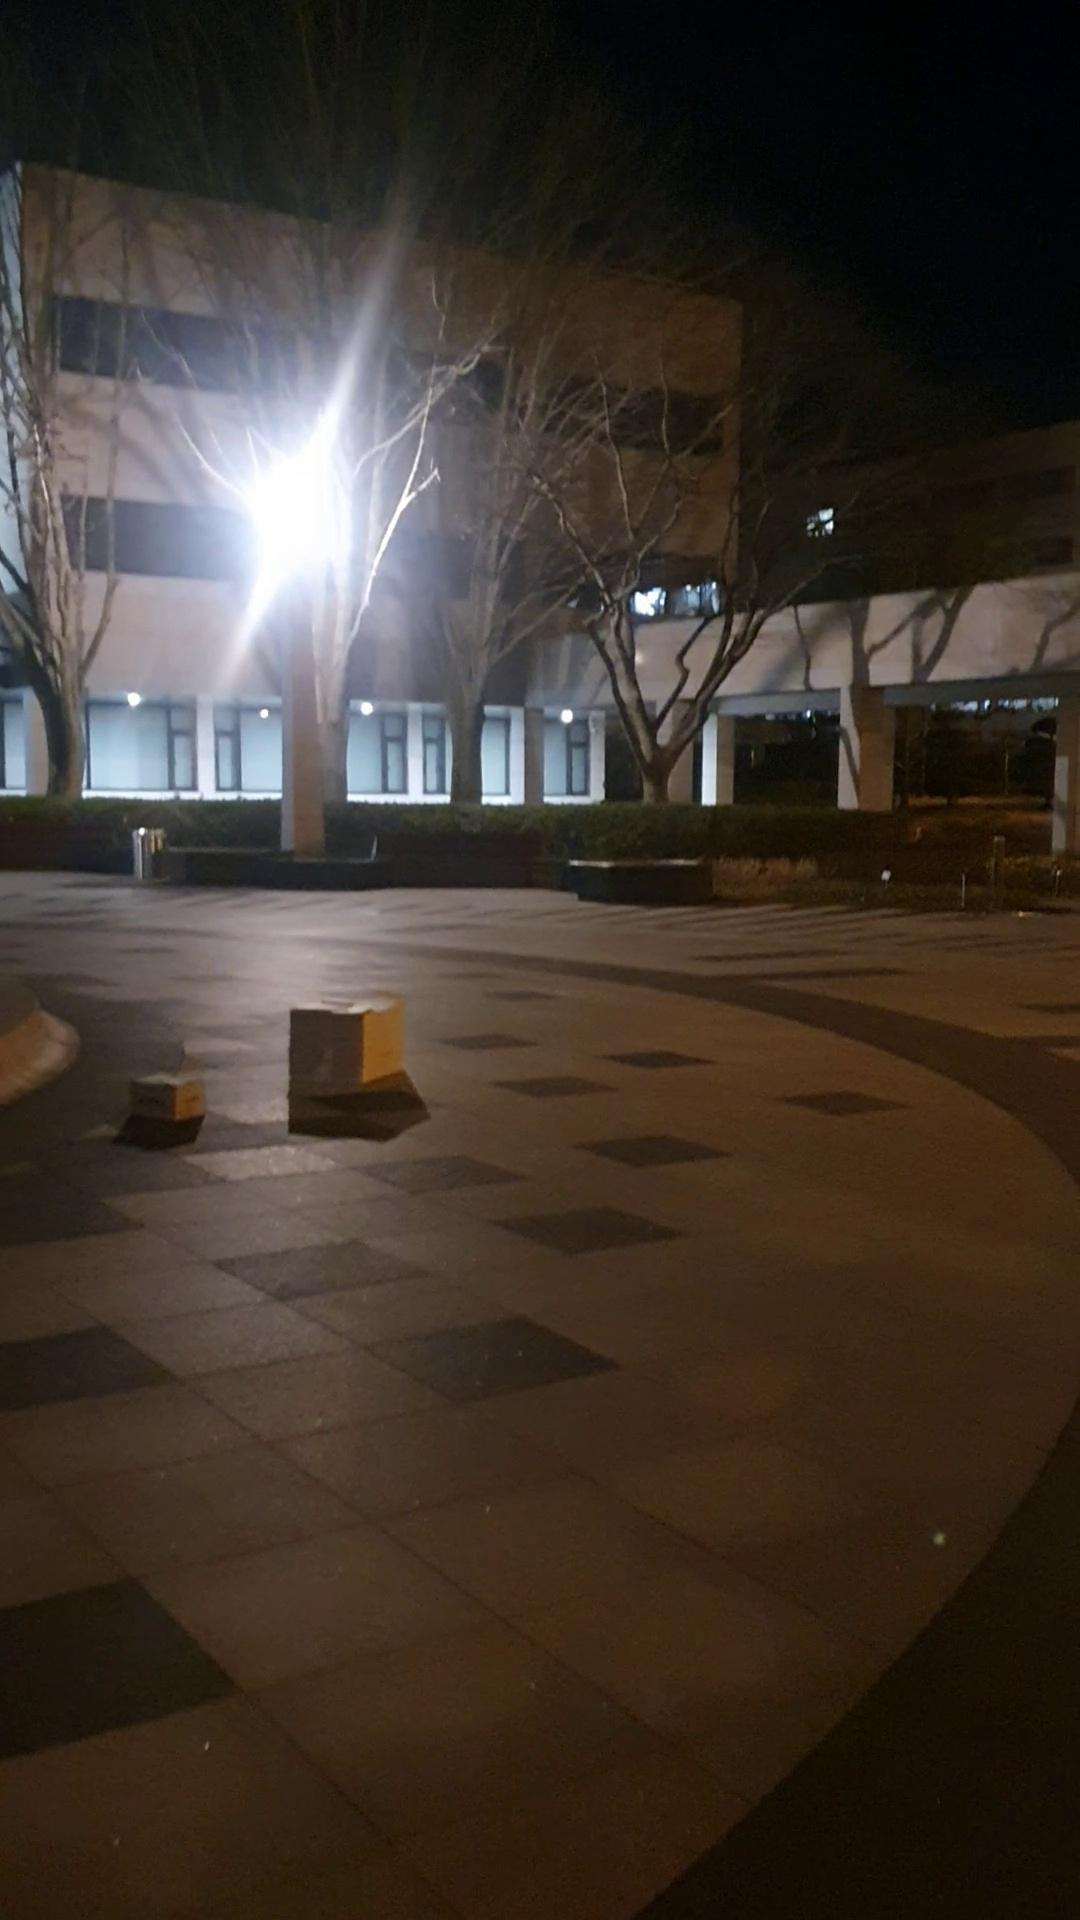Box: (278, 985, 411, 1110), (117, 1068, 225, 1143)
